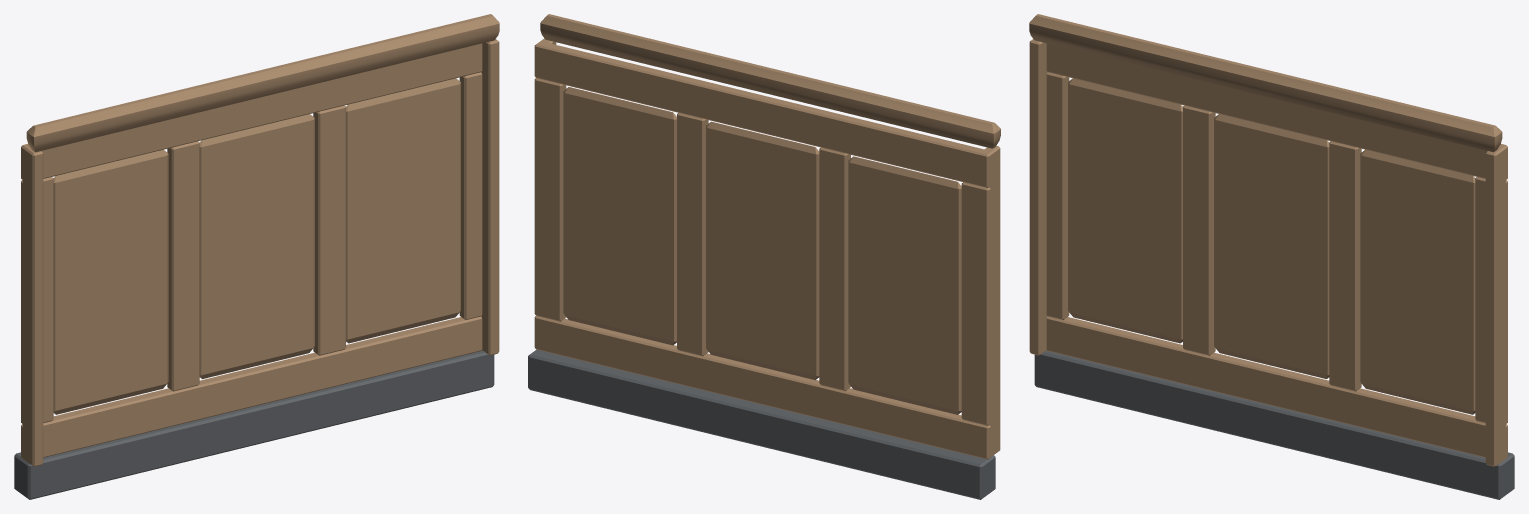
The model's file is bar-pub-and-brewery-taproom-bar-front-panelling-9ea18399__18317.glb.
3 views of the same model, side by side, from view 1: azimuth 30°, elevation 25°; view 2: azimuth 150°, elevation 25°; view 3: azimuth 330°, elevation 25° (orthographic). The views are drawn at different scales.
Visible parts, largest first — view 1: bar-front-panelling; view 2: bar-front-panelling; view 3: bar-front-panelling.
Part boxes in pixels (left/top/right/bottom): bar-front-panelling: left=14, top=14, right=499, bottom=499; bar-front-panelling: left=528, top=14, right=1000, bottom=499; bar-front-panelling: left=1029, top=14, right=1514, bottom=499.
Size of the model in its own units: 1.2 by 0.9199 by 0.092.
